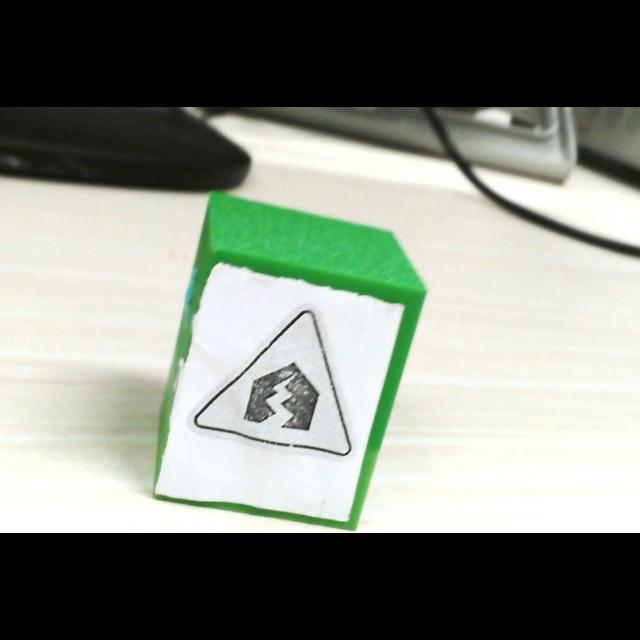Earthquake: (191, 310, 353, 460), (192, 310, 352, 460)
